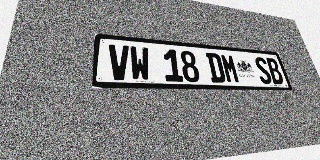1: (162, 49, 183, 82)
8: (179, 50, 200, 82)
B: (265, 58, 285, 84)
D: (205, 52, 226, 83)
M: (220, 54, 241, 83)
S: (253, 57, 273, 84)
V: (108, 44, 130, 80)
W: (129, 46, 151, 81)
